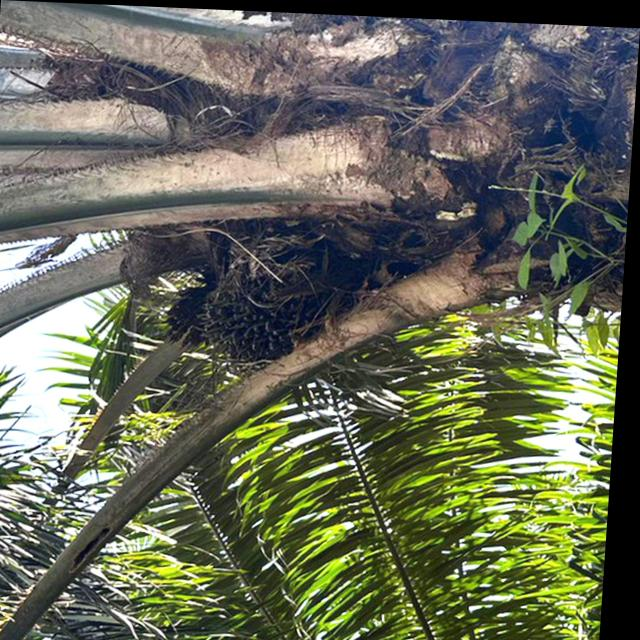ripe: (192, 253, 331, 377)
